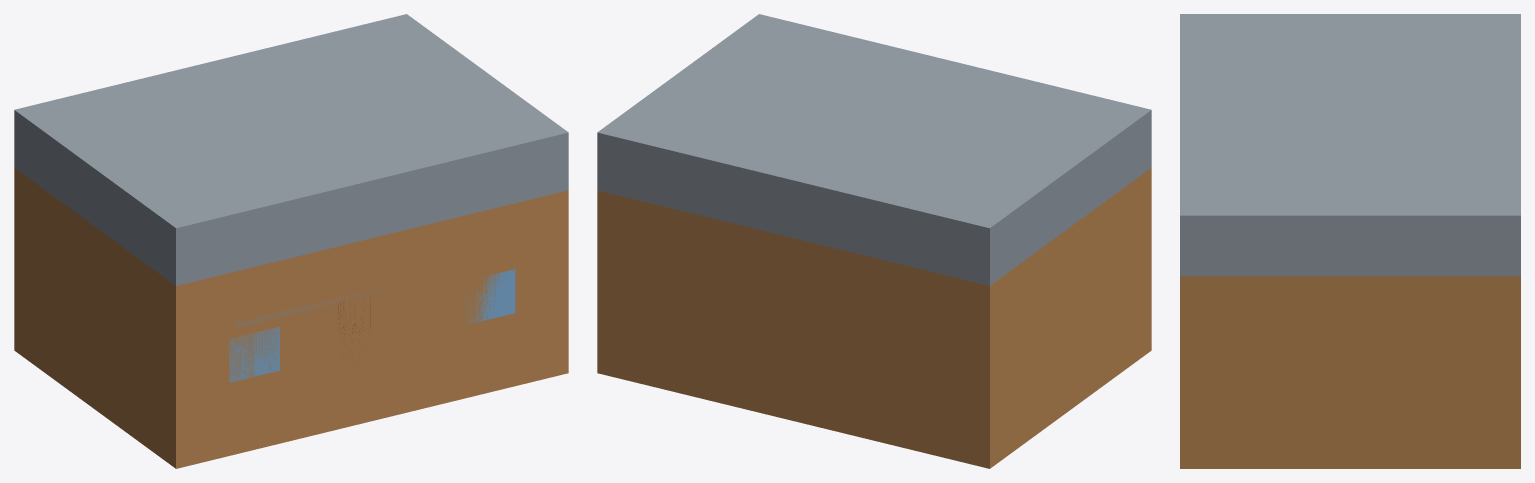
The model's file is gedung_warkop.fbx.
The picture shows the model from 3 angles, left to right: view 1: azimuth 30°, elevation 25°; view 2: azimuth 150°, elevation 25°; view 3: azimuth 270°, elevation 25°; orthographic projection. The views are drawn at different scales.
Parts seen in each view (by area): view 1: gedung_warkop; view 2: gedung_warkop; view 3: gedung_warkop.
Part boxes in pixels (x1,y1,x2,y2): gedung_warkop: (14,14,568,468); gedung_warkop: (597,14,1151,468); gedung_warkop: (1180,14,1520,468).
Size of the model in its own units: 700 by 410 by 500.
1 material, 1 textured.
